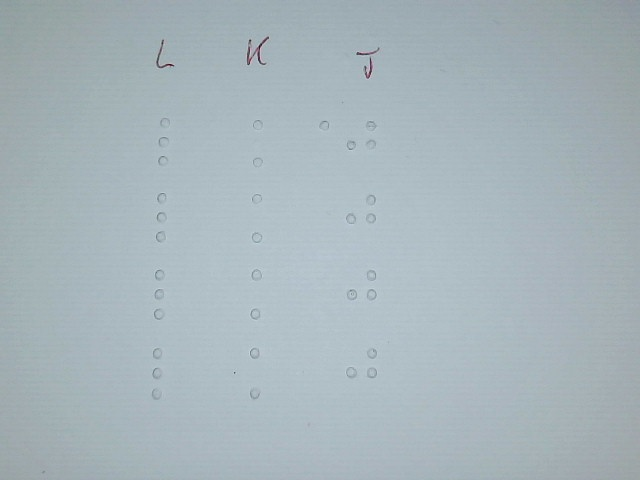J: (343, 114, 379, 166), (343, 188, 379, 240), (344, 264, 380, 316), (344, 340, 380, 392)
K: (244, 117, 280, 169), (244, 191, 280, 243), (244, 268, 280, 320), (243, 347, 279, 399)
L: (151, 116, 187, 168), (148, 191, 184, 243), (146, 269, 182, 321), (145, 347, 181, 399)
